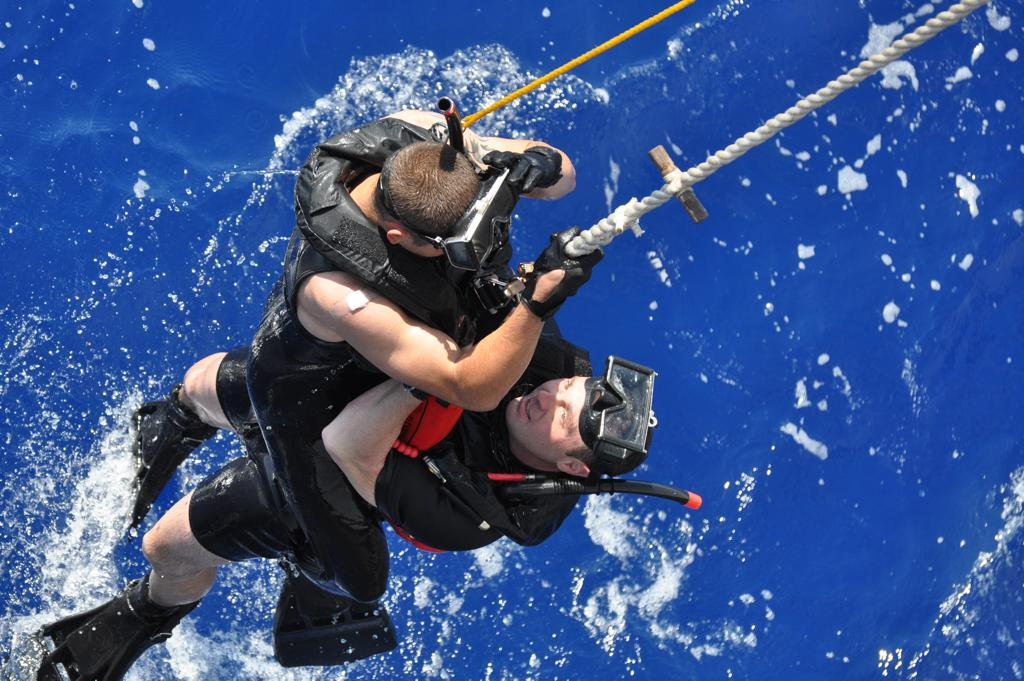face: (508, 370, 596, 448)
